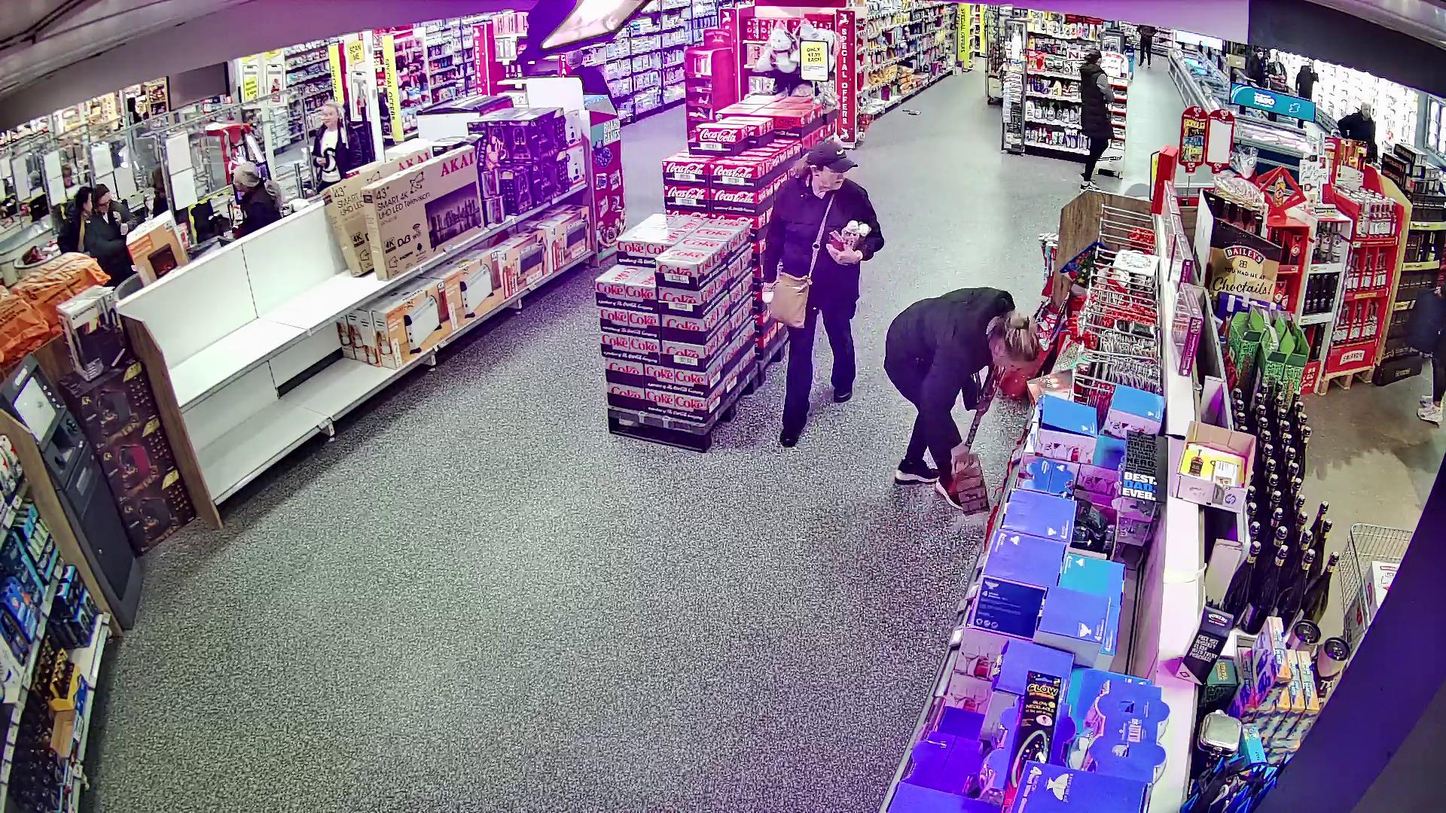backpack-or-handbag: (767, 270, 813, 330)
carrying-item: (823, 221, 874, 263)
person: (766, 140, 885, 445)
person-with-backpack-handbag-and-carrying-item-s-: (766, 140, 885, 444)
